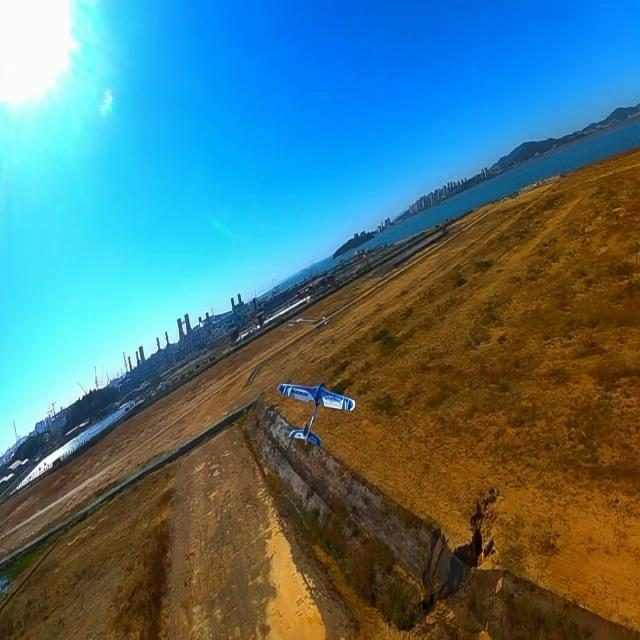iha: (305, 410, 335, 417)
